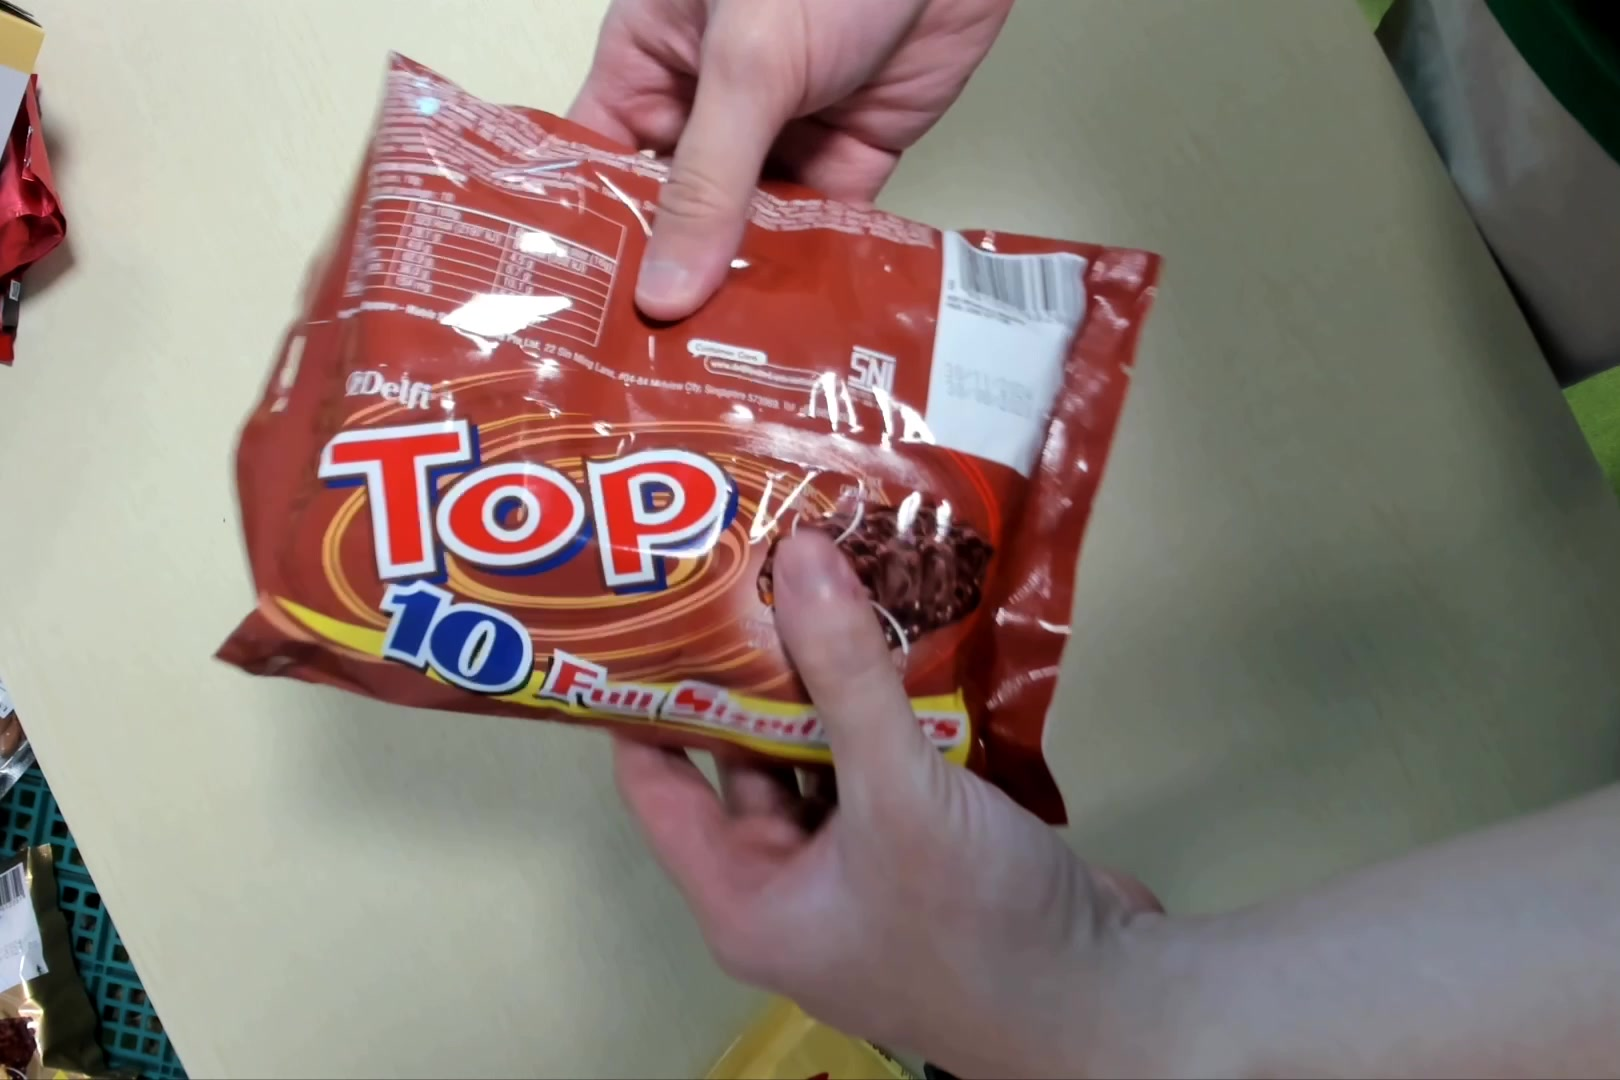SweetsChocolatesOthers_100-199g_NonHalal_NonHealthy: (221, 55, 1154, 827)
